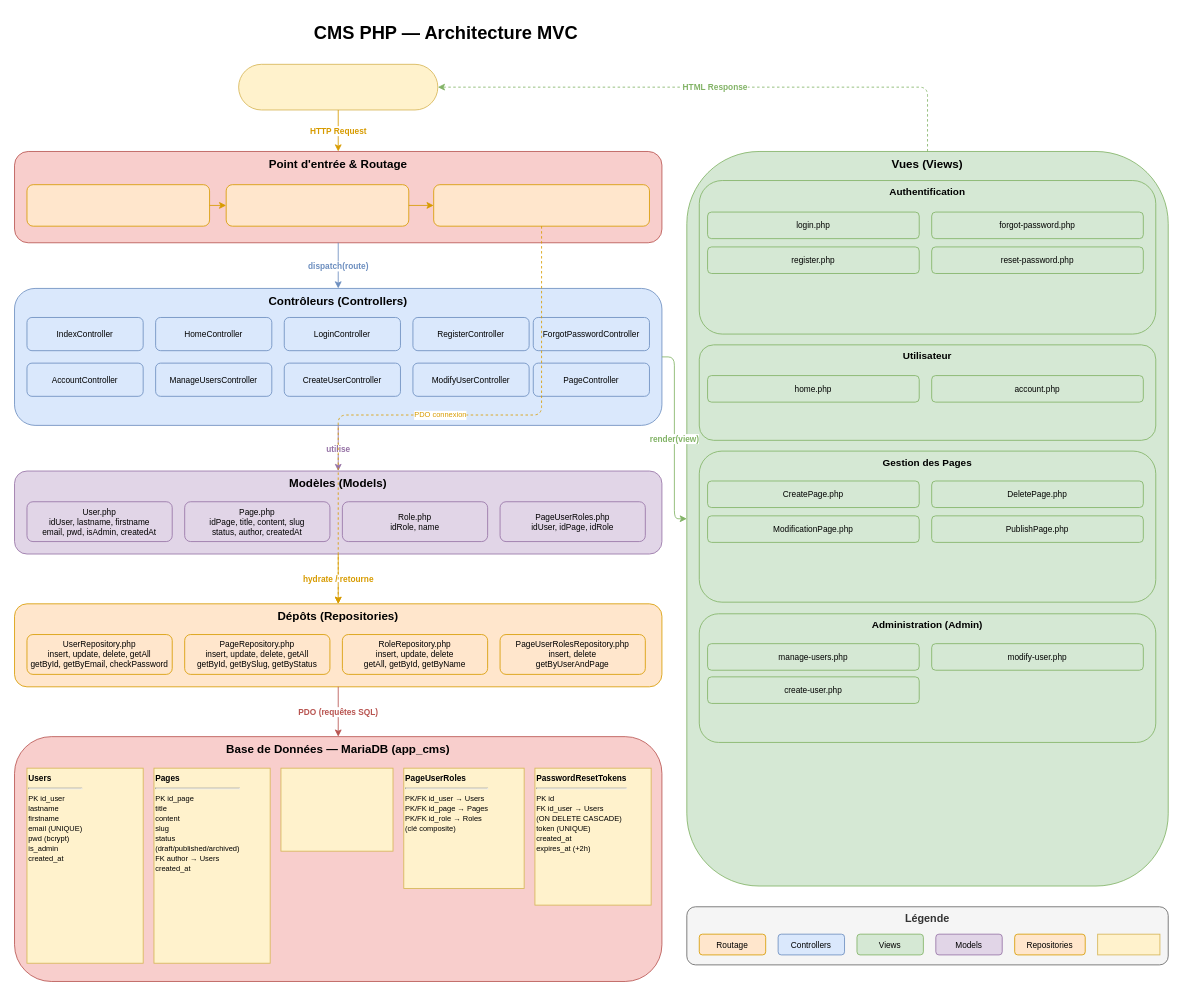
The diagram is 1183 pixels wide and 996 high, and some of its shapes have lost their labels. The centre of each missing label's shape, as x and y in pixels:
Client (Navigateur): point 338,86
config/Database.php (Singleton PDO): point 541,205
config/Router.php: point 317,205
Database: point 1128,944
public/index.php: point 118,205
Roles PK id_role name: point 336,809
